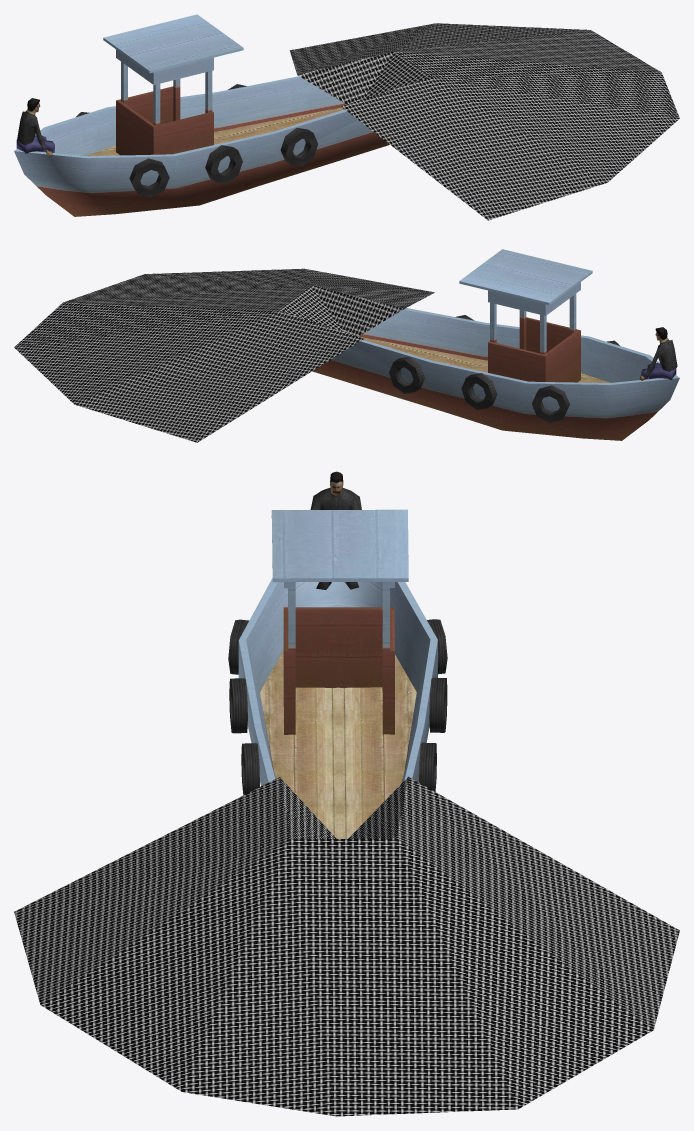
Rendered from fishing_boat.FBX.
3 views of the same model, one above another, from view 1: azimuth 30°, elevation 25°; view 2: azimuth 150°, elevation 25°; view 3: azimuth 270°, elevation 25° (orthographic). The views are drawn at different scales.
Visible parts, largest first — view 1: net, fishing_boat, fisher; view 2: net, fishing_boat, fisher; view 3: net, fishing_boat, fisher.
Part boxes in pixels (x1,y1,x2,y2): net: (289, 23, 679, 220); fishing_boat: (14, 14, 389, 216); fisher: (16, 98, 54, 155); net: (14, 268, 434, 442); fishing_boat: (312, 249, 679, 440); fisher: (639, 327, 677, 380); net: (14, 777, 679, 1116); fishing_boat: (228, 509, 447, 838); fisher: (310, 471, 361, 589).
Bounding box in the file's own units: 323 × 71.24 × 194.
3 materials, 3 textured.
